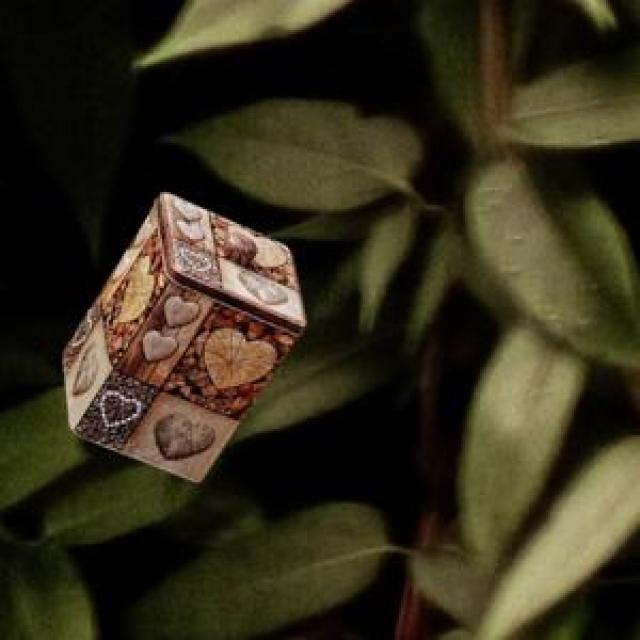logam: (61, 189, 302, 479)
